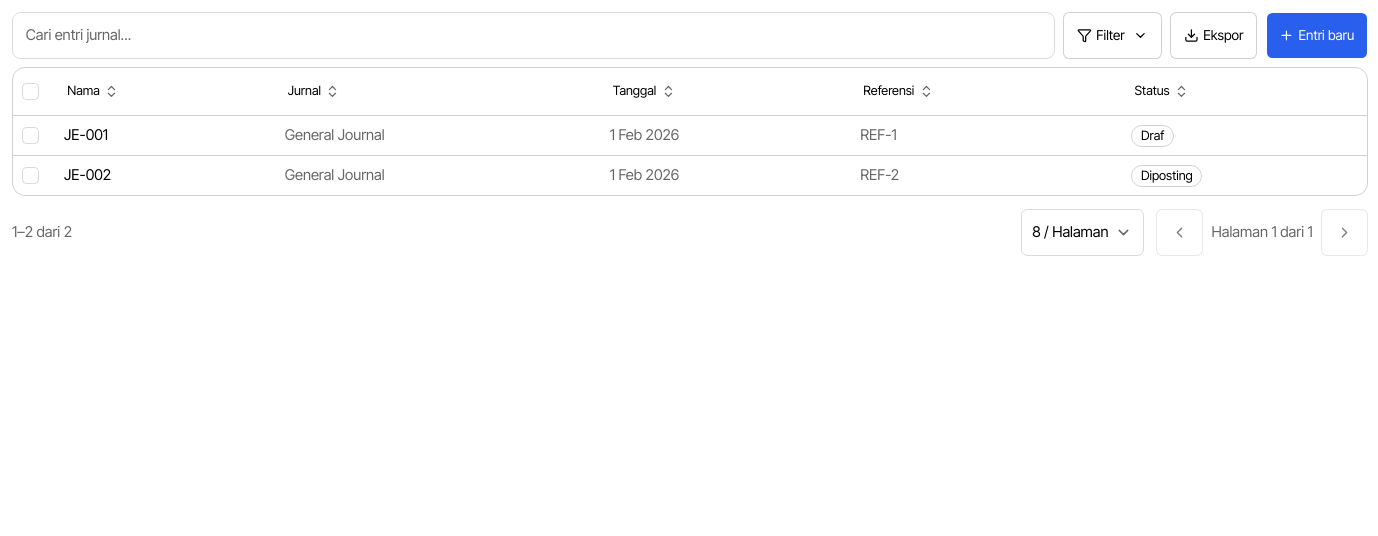
JournalEntriesSection extra2 › filters entries by state
This screenshot has width=1378, height=536.
Expected: the link "JE-001" is shown, [64,126,108,144]
Click the button "Filter".
click(1113, 35)  # box [1063,12,1162,59]
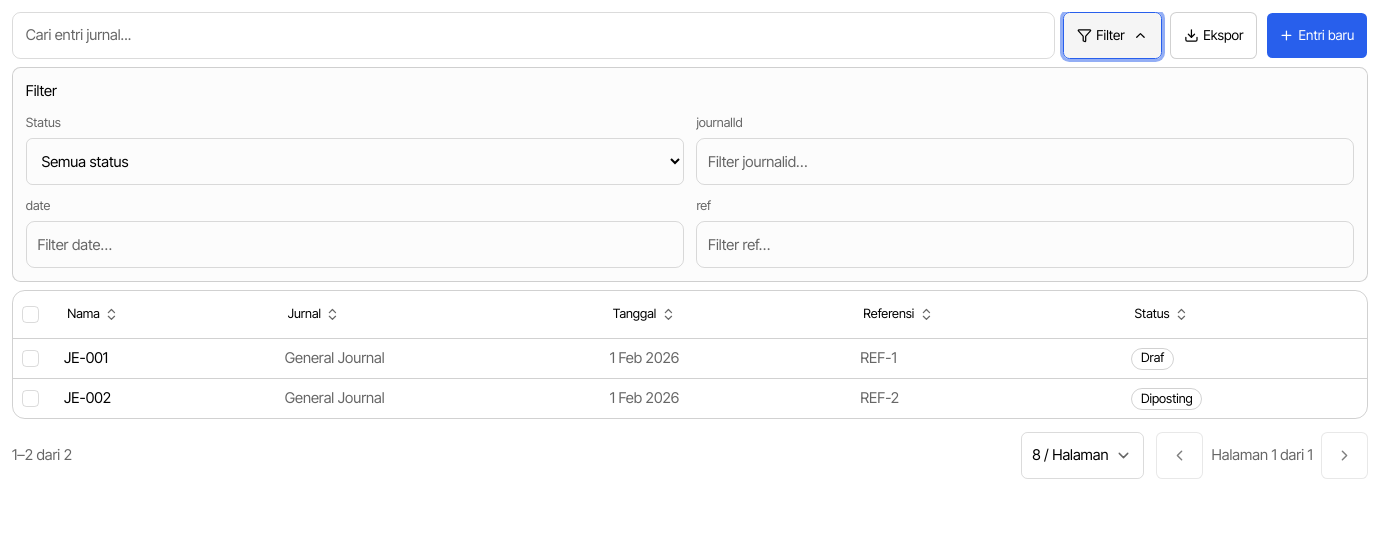
Select "Diposting" in the dropdown labelled "Status" at (355, 162), box [26,138,684,185]
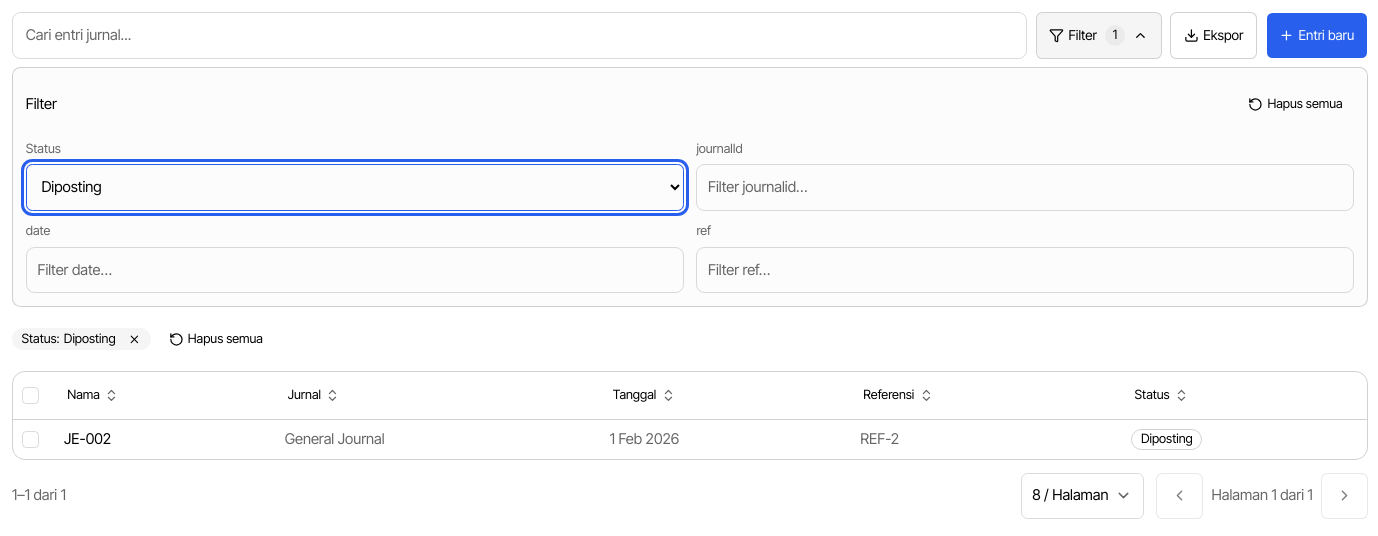
Expected: the link "JE-002" is shown, [64,430,111,448]
Expected: the link "JE-001" is gone
